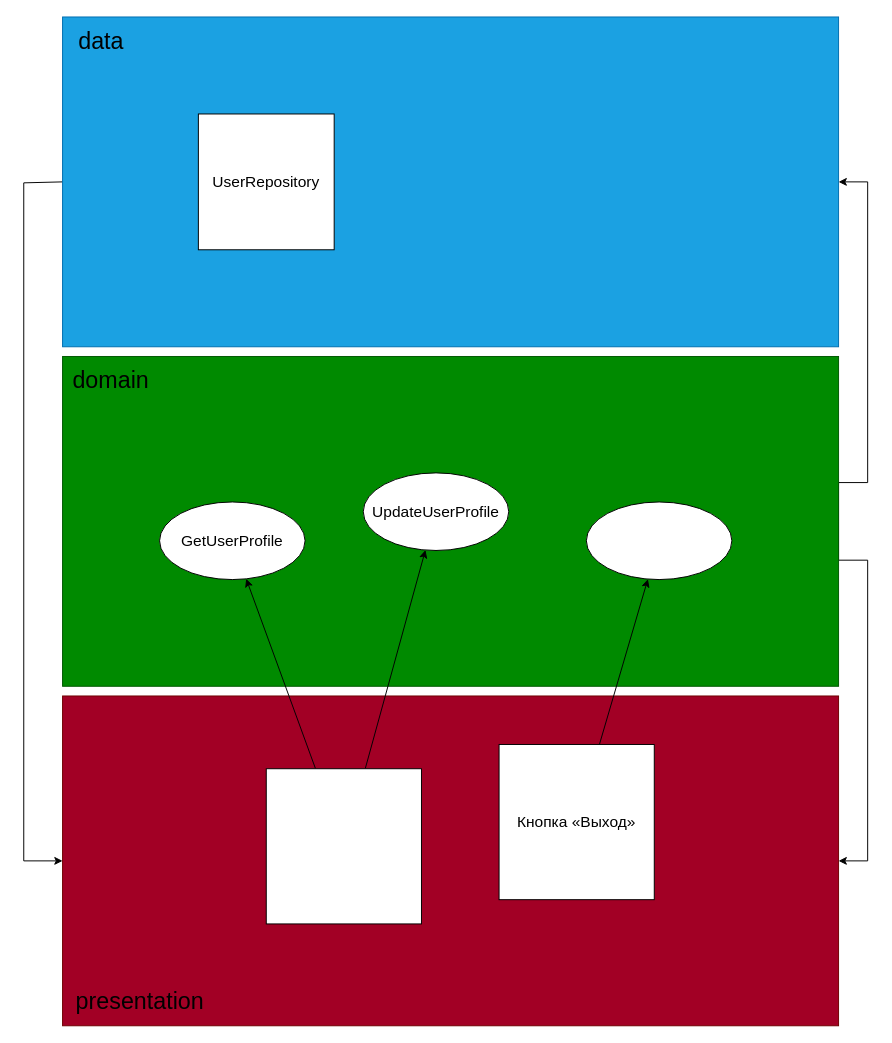
Some shapes in this 892 by 1043 pixel diagram are drawn without their labels. Each missing label, with the box of its shape:
Logout: (585, 501, 732, 580)
Отображение имени, email, аватара: (265, 768, 421, 924)
